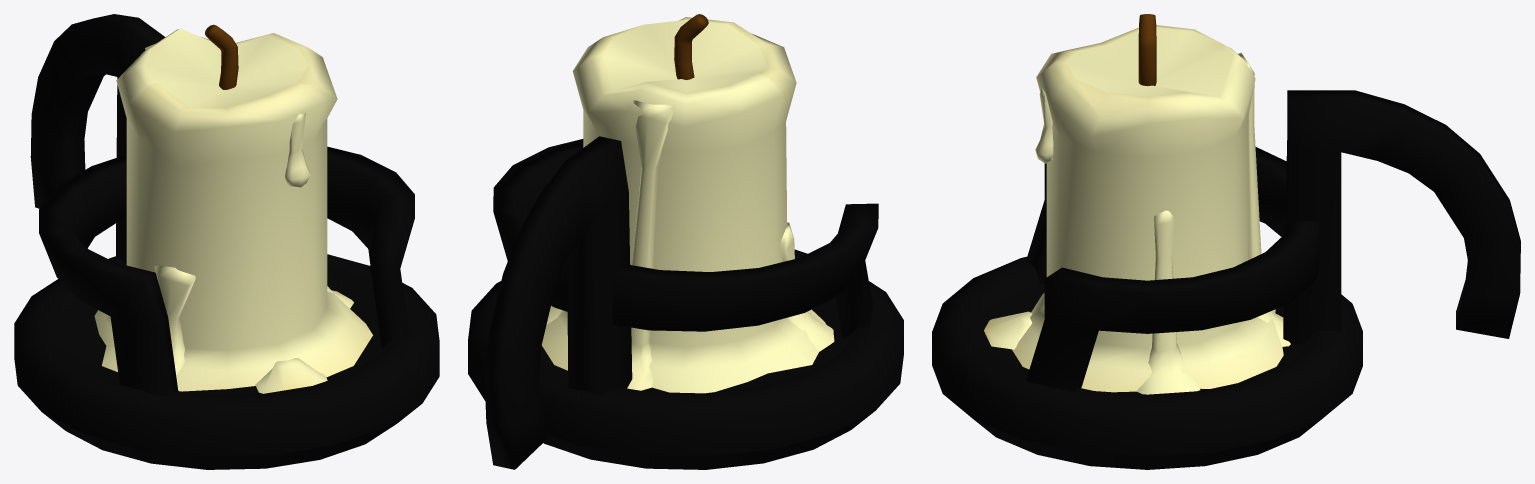
File: candle.fbx
The picture shows the model from 3 angles, left to right: view 1: azimuth 30°, elevation 25°; view 2: azimuth 150°, elevation 25°; view 3: azimuth 270°, elevation 25°; orthographic projection. The views are drawn at different scales.
Parts seen in each view (by area): view 1: pCylinder1, pCylinder3, pCylinder4, pCylinder5, pCube6, pCube9, pCube1, pCylinder2; view 2: pCylinder1, pCylinder3, pCylinder5, pCylinder4, pCube8, pCube6, pCylinder2; view 3: pCylinder1, pCylinder3, pCylinder5, pCylinder4, pCube7, pCube8, pCylinder2, pCube9, pCube1.
Part boxes in pixels (x1,y1,x2,y2): pCylinder1: [94, 28, 372, 391]; pCylinder3: [14, 254, 439, 469]; pCylinder4: [39, 146, 414, 396]; pCylinder5: [30, 14, 165, 263]; pCube6: [154, 265, 195, 375]; pCube9: [255, 358, 327, 393]; pCube1: [285, 112, 310, 187]; pCylinder2: [205, 24, 238, 89]; pCylinder1: [542, 17, 825, 393]; pCylinder3: [468, 249, 903, 469]; pCylinder5: [484, 136, 632, 469]; pCylinder4: [493, 139, 878, 337]; pCube8: [627, 100, 674, 390]; pCube6: [780, 222, 834, 351]; pCylinder2: [674, 14, 708, 79]; pCylinder1: [1012, 25, 1283, 392]; pCylinder3: [932, 256, 1362, 469]; pCylinder5: [1283, 90, 1520, 344]; pCylinder4: [1026, 147, 1319, 391]; pCube7: [1137, 210, 1200, 394]; pCube8: [1238, 53, 1290, 346]; pCylinder2: [1138, 14, 1156, 86]; pCube9: [984, 311, 1032, 349]; pCube1: [1035, 88, 1053, 163].
Size of the model in its own units: 1.29 by 1.22 by 1.76.
Materials: 1 (1 with a texture image).
